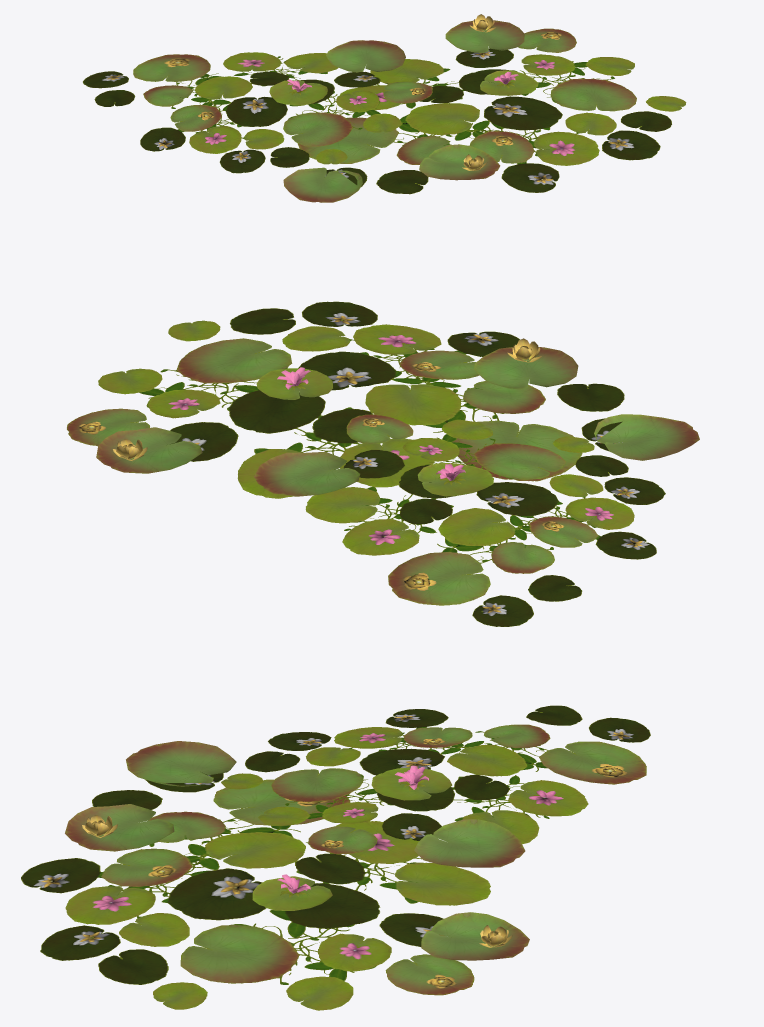
Rendered from lillymass_lod0.fbx.
3 renders of one model, top to bottom at view 1: azimuth 30°, elevation 25°; view 2: azimuth 150°, elevation 25°; view 3: azimuth 270°, elevation 25°, orthographic. The views are drawn at different scales.
Visible parts, largest first — view 1: Mesh Object; view 2: Mesh Object; view 3: Mesh Object.
Part boxes in pixels (<box>): Mesh Object: <box>83,14,686,202</box>; Mesh Object: <box>67,301,699,626</box>; Mesh Object: <box>21,705,650,1010</box>.
Bounding box in the file's own units: 2.53 × 0.1416 × 2.33.
